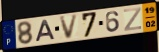6: (105, 11, 121, 33)
7: (81, 11, 98, 39)
8: (17, 20, 34, 46)
A: (35, 18, 57, 43)
V: (58, 13, 79, 41)
Z: (123, 7, 142, 33)
